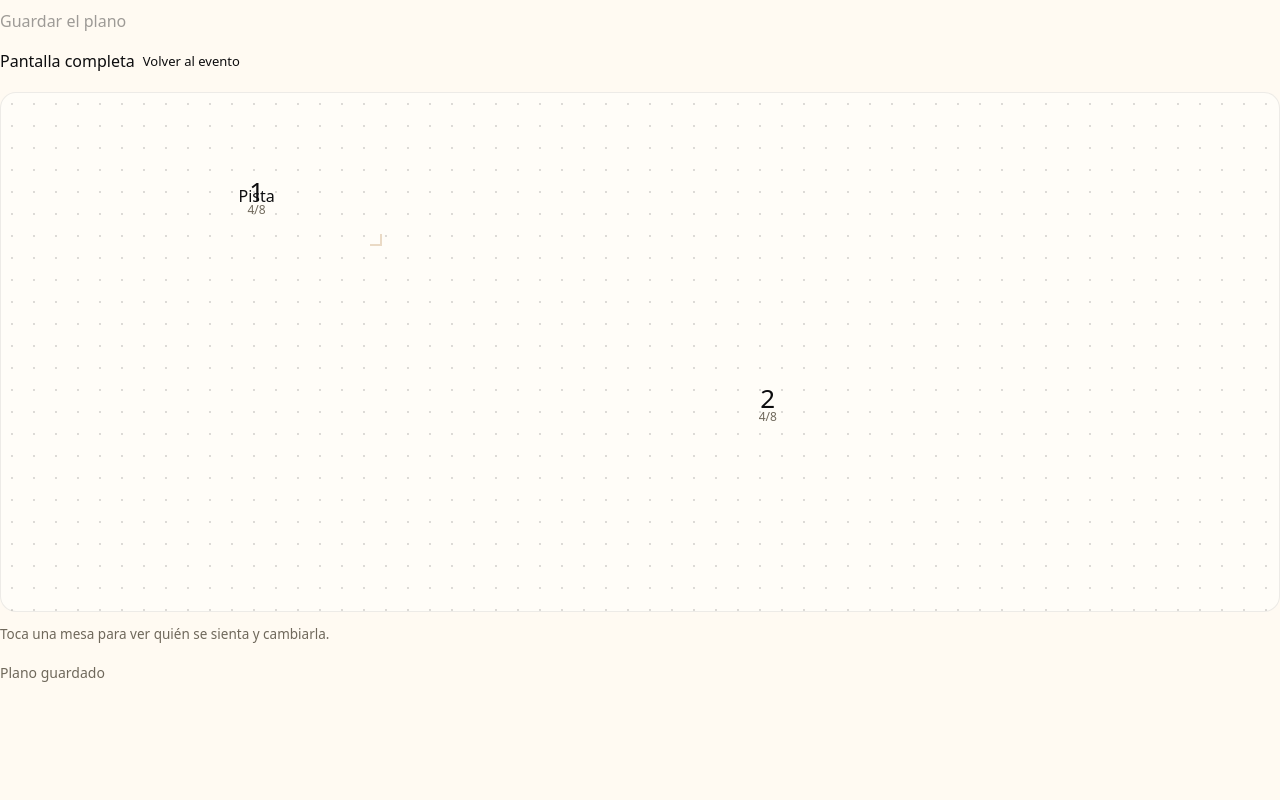
Test: FloorPlan › «Cancelar» en el modal deja todo como estaba y no navega
Press the mouse on the button named "Mesa 01" at (257, 197), box [219,159,295,235]
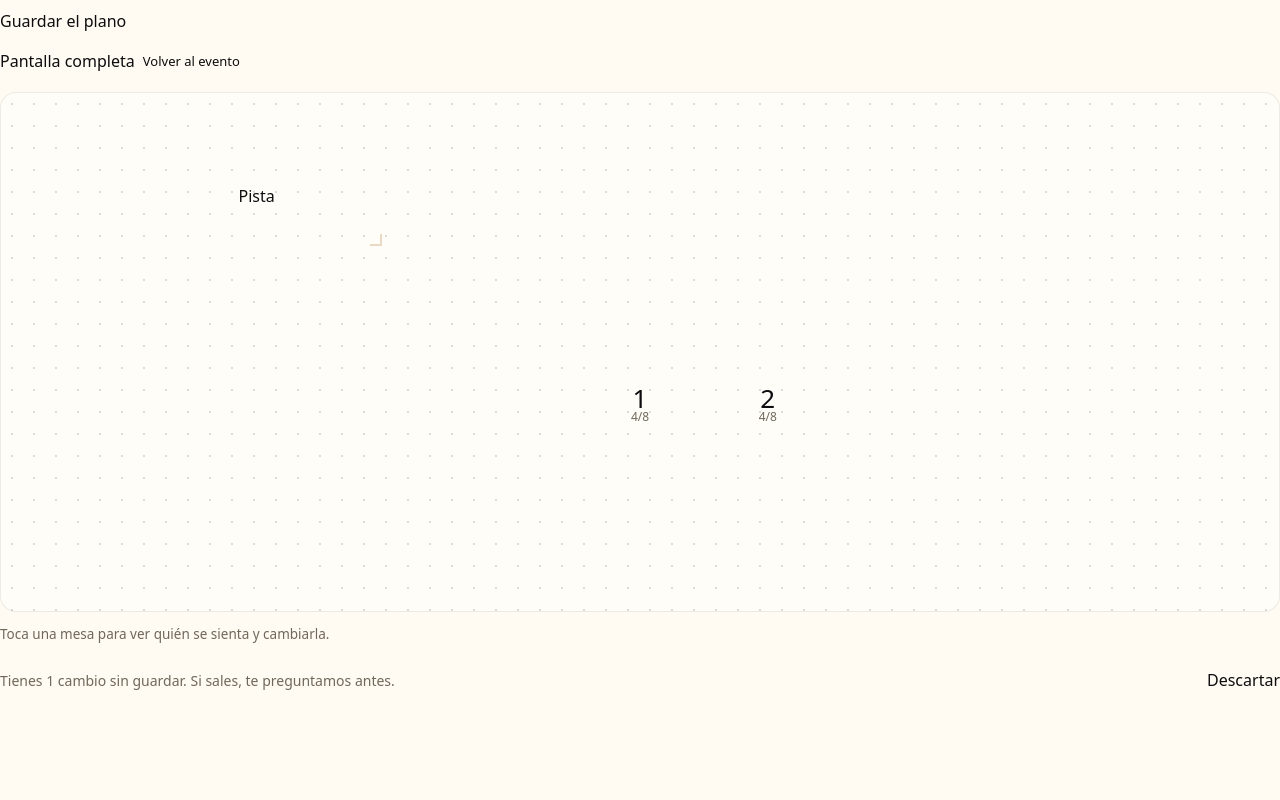
Click the link "Volver al evento".
click(191, 62)  # box [143,52,240,72]
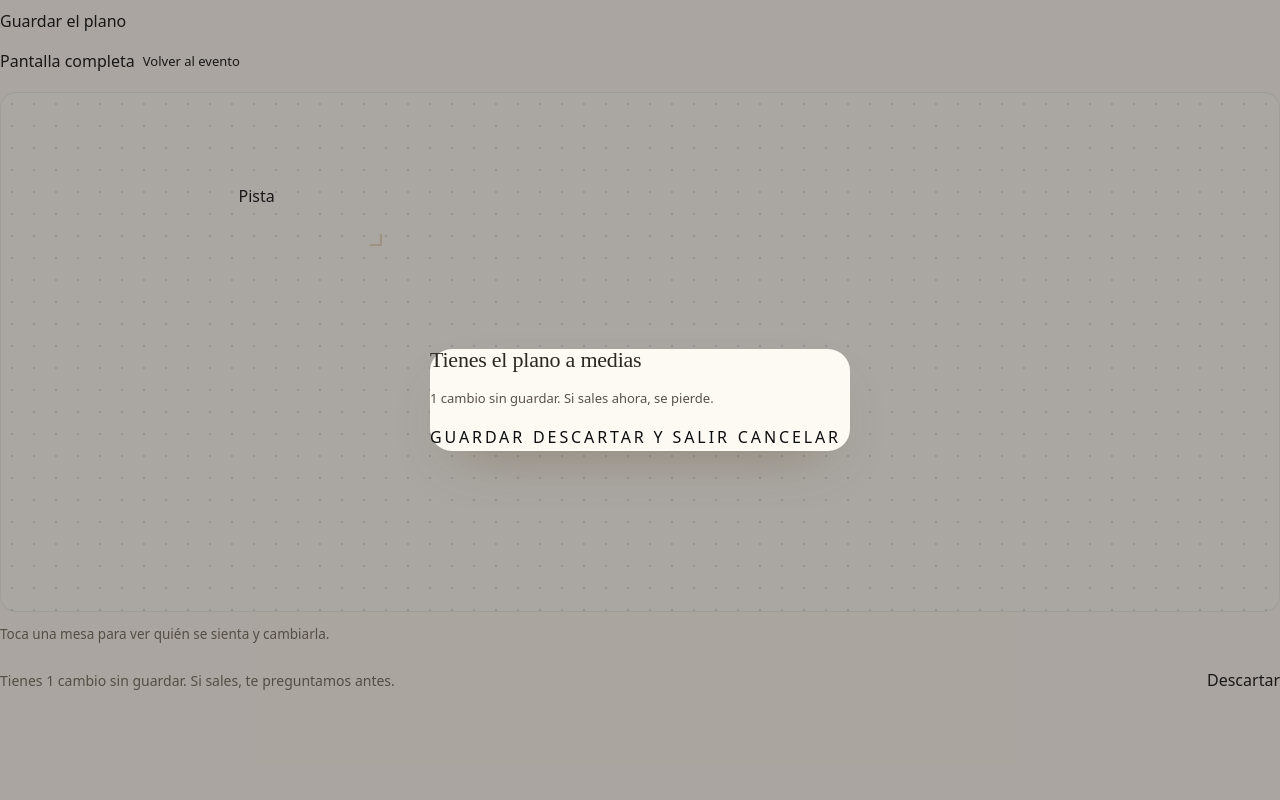
Click the button "Cancelar".
click(789, 438)  # box [738,425,841,451]
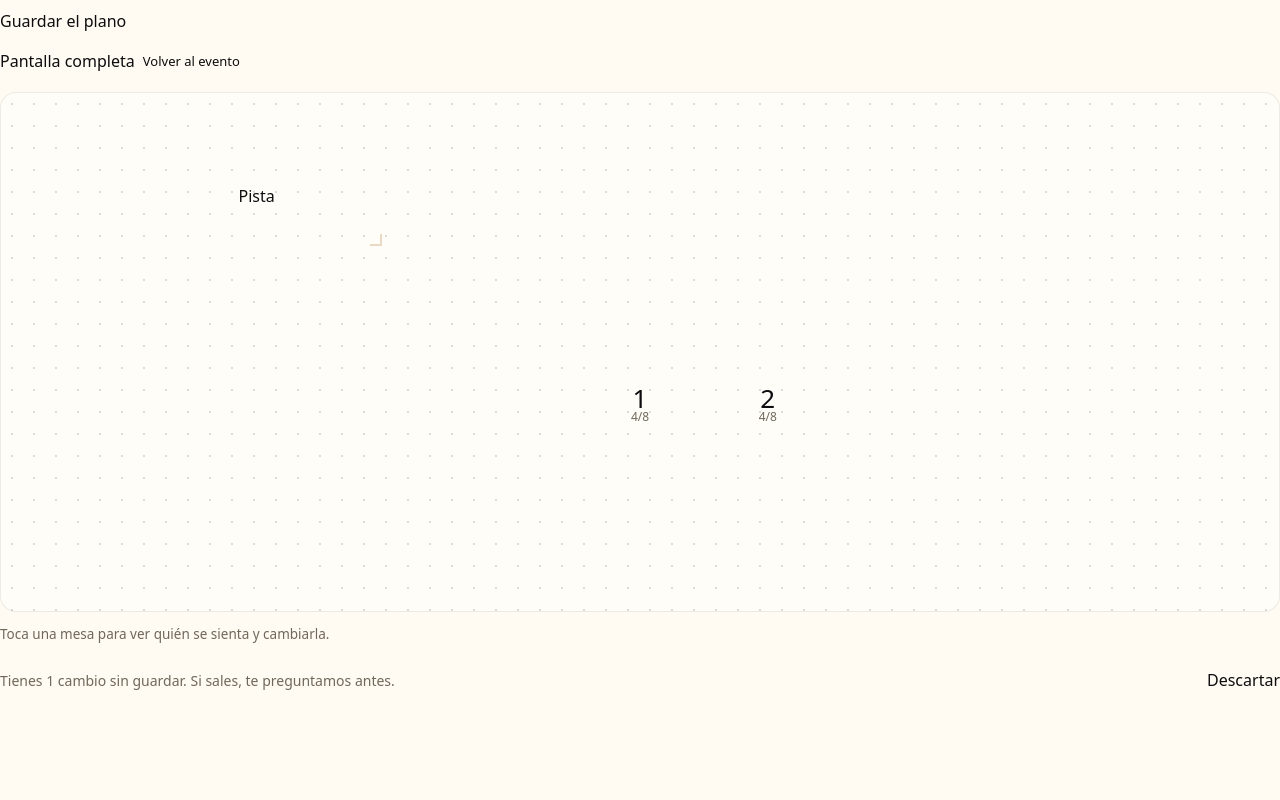
Expected: the dialog is gone
